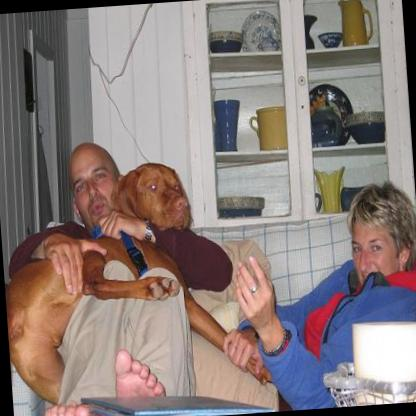vizsla: (0, 153, 272, 405)
